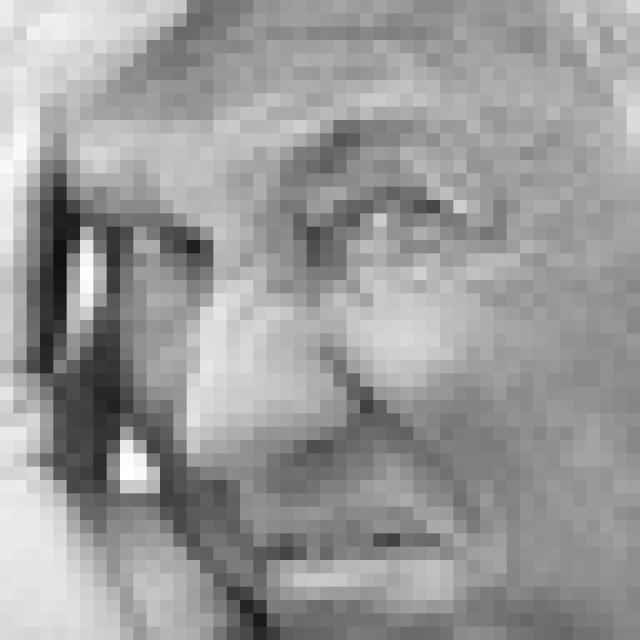disgust: (105, 82, 560, 640)
